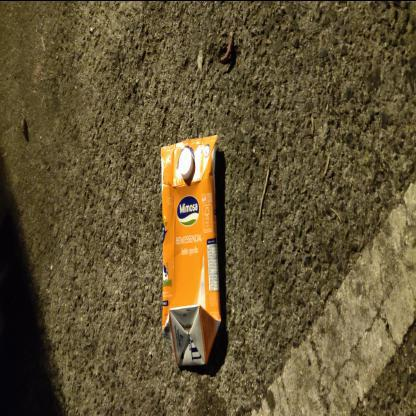karton: (162, 132, 224, 368)
